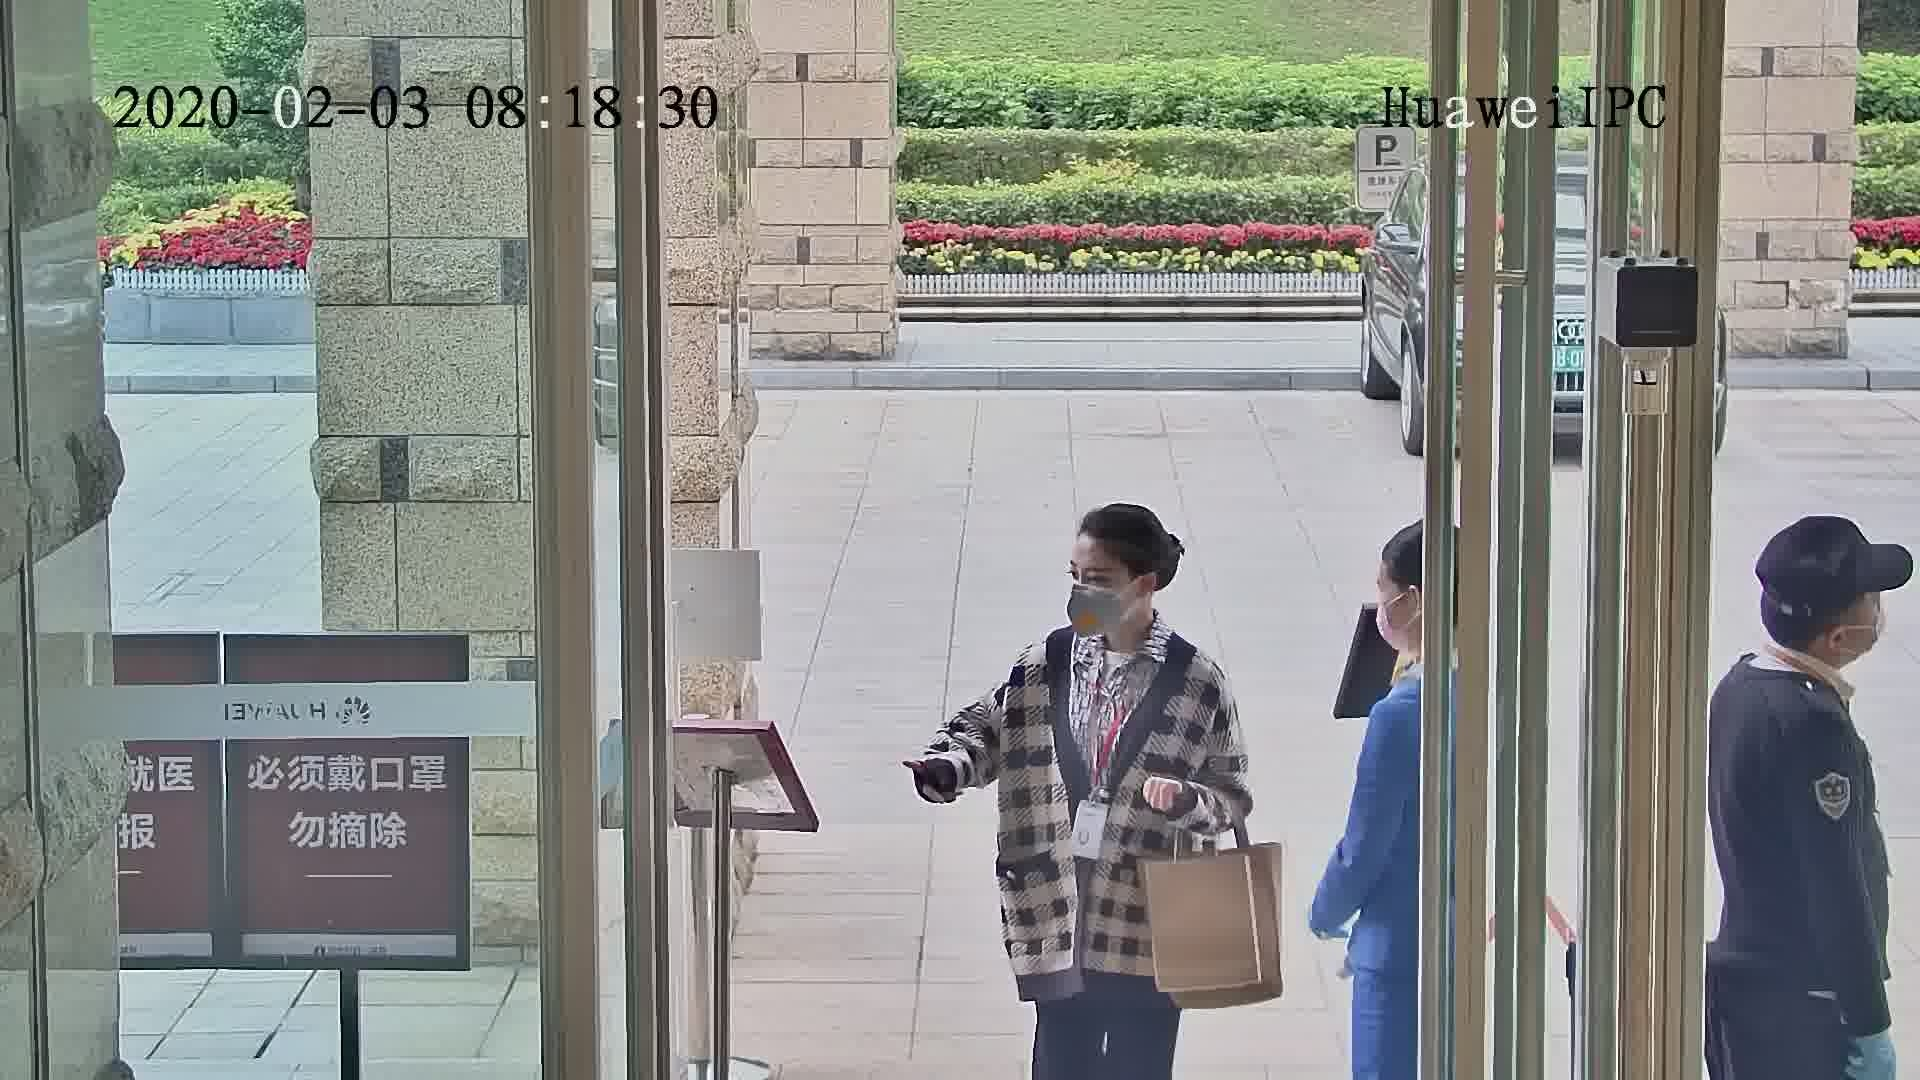face: (1067, 540, 1134, 638), (1369, 560, 1407, 653), (1851, 595, 1891, 671)
mask: (1065, 584, 1127, 640), (1374, 600, 1414, 655)
person: (1715, 505, 1896, 789), (1046, 497, 1230, 708), (1351, 514, 1430, 766)
